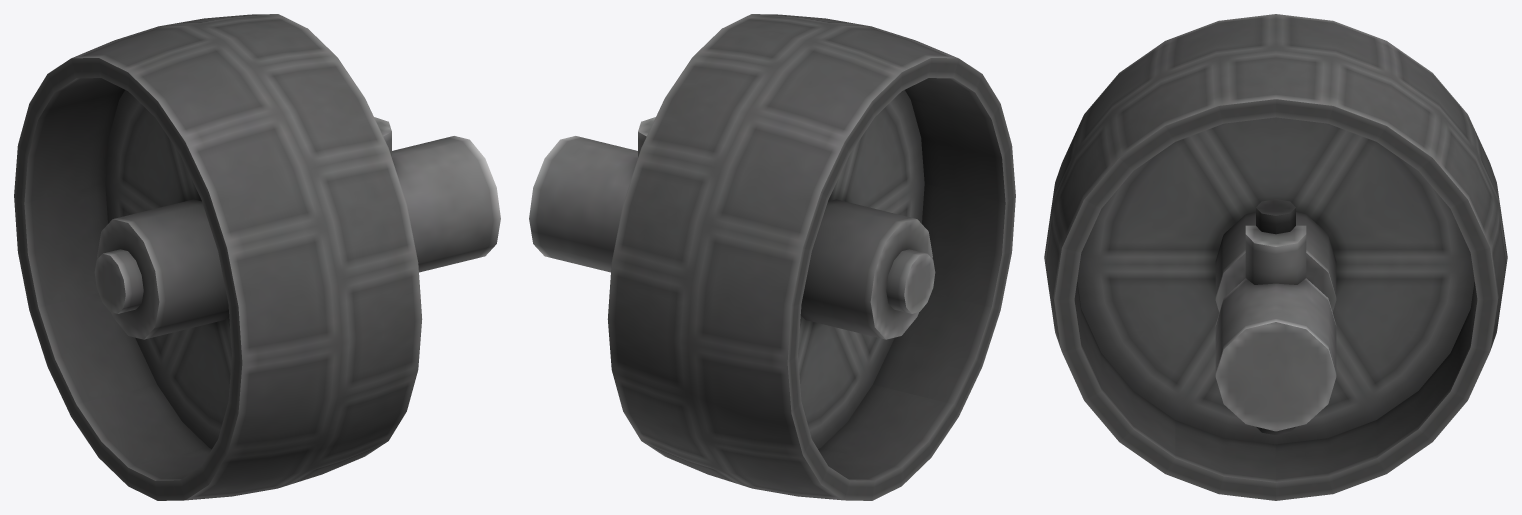
3 views of the same model, side by side, from view 1: azimuth 30°, elevation 25°; view 2: azimuth 150°, elevation 25°; view 3: azimuth 270°, elevation 25° (orthographic). The views are drawn at different scales.
Visible parts, largest first — view 1: 1_1_auv3, 1_1_auv; view 2: 1_1_auv3, 1_1_auv; view 3: 1_1_auv3, 1_1_auv, 1_1_auv2.
Part boxes in pixels (box(x1,y1,x2,y2)): 1_1_auv3: box(14, 14, 422, 500); 1_1_auv: box(374, 117, 500, 272); 1_1_auv3: box(607, 14, 1015, 500); 1_1_auv: box(529, 117, 655, 272); 1_1_auv3: box(1044, 14, 1507, 500); 1_1_auv: box(1215, 225, 1336, 431); 1_1_auv2: box(1256, 199, 1295, 434).
Bounding box in the file's own units: 0.25 × 0.2875 × 0.2875.
Materials: 3 (3 with a texture image).
